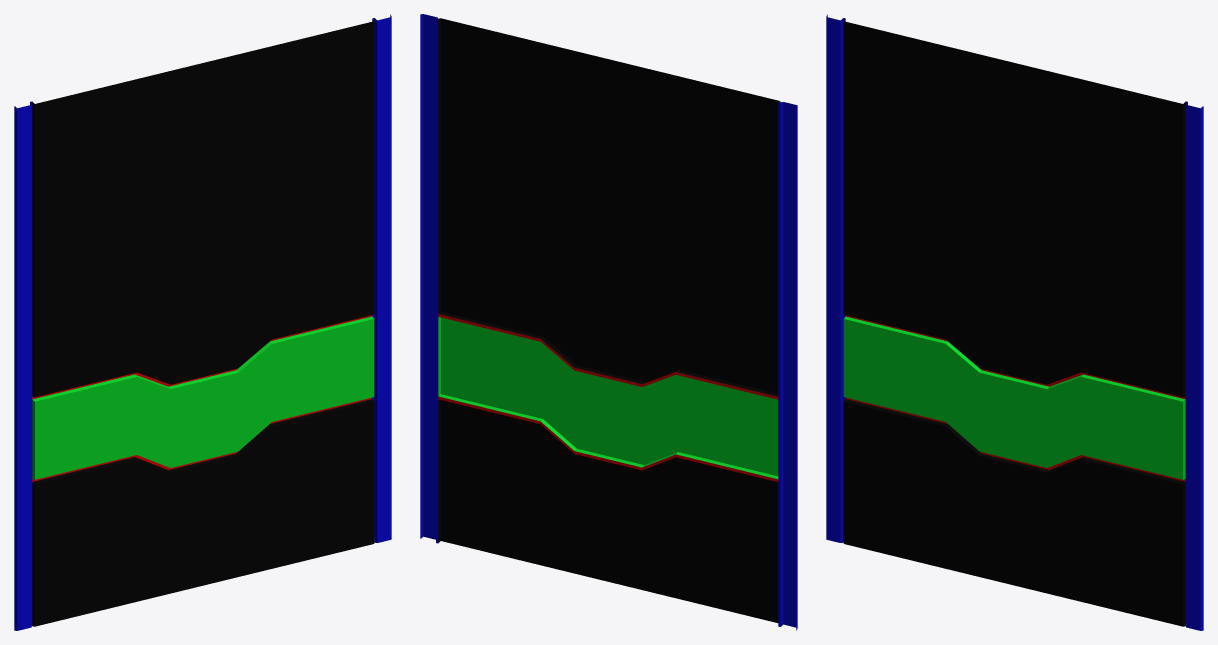
Rendered from Crew_wall_3x4.fbx.
3 renders of one model, left to right at view 1: azimuth 30°, elevation 25°; view 2: azimuth 150°, elevation 25°; view 3: azimuth 330°, elevation 25°, orthographic.
Visible parts, largest first — view 1: Wall_3x4; view 2: Wall_3x4; view 3: Wall_3x4.
Part boxes in pixels (x1,y1,x2,y2): Wall_3x4: (14, 14, 391, 630); Wall_3x4: (420, 14, 797, 630); Wall_3x4: (826, 14, 1203, 630).
Size of the model in its own units: 300 by 400 by 3.08.
